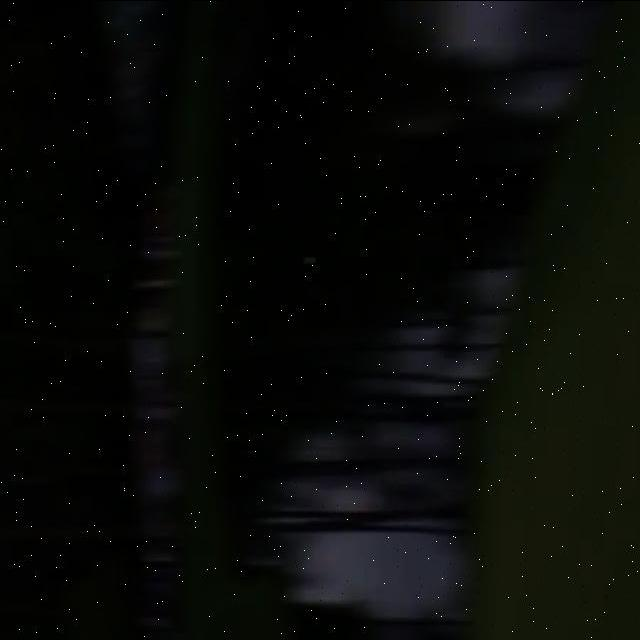golf ball: (307, 255, 316, 262)
